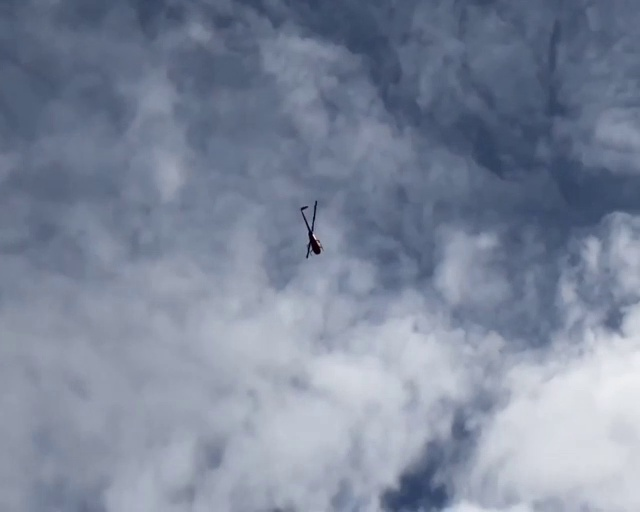HELICOPTER: (300, 199, 323, 258)
